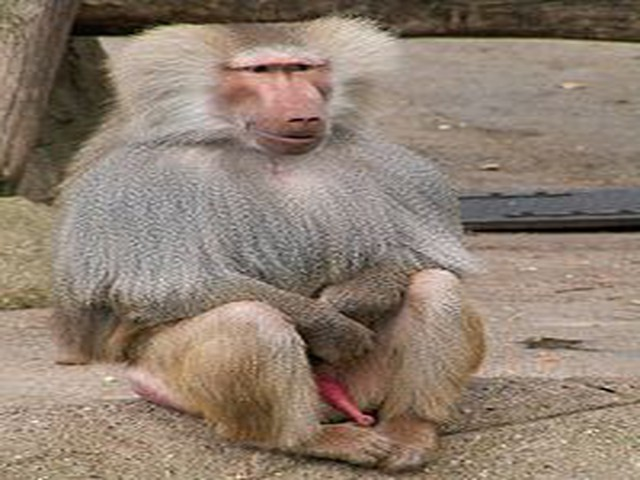Monkey: (66, 14, 499, 475)
